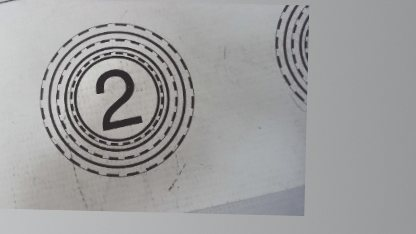2r: (35, 20, 198, 180)
